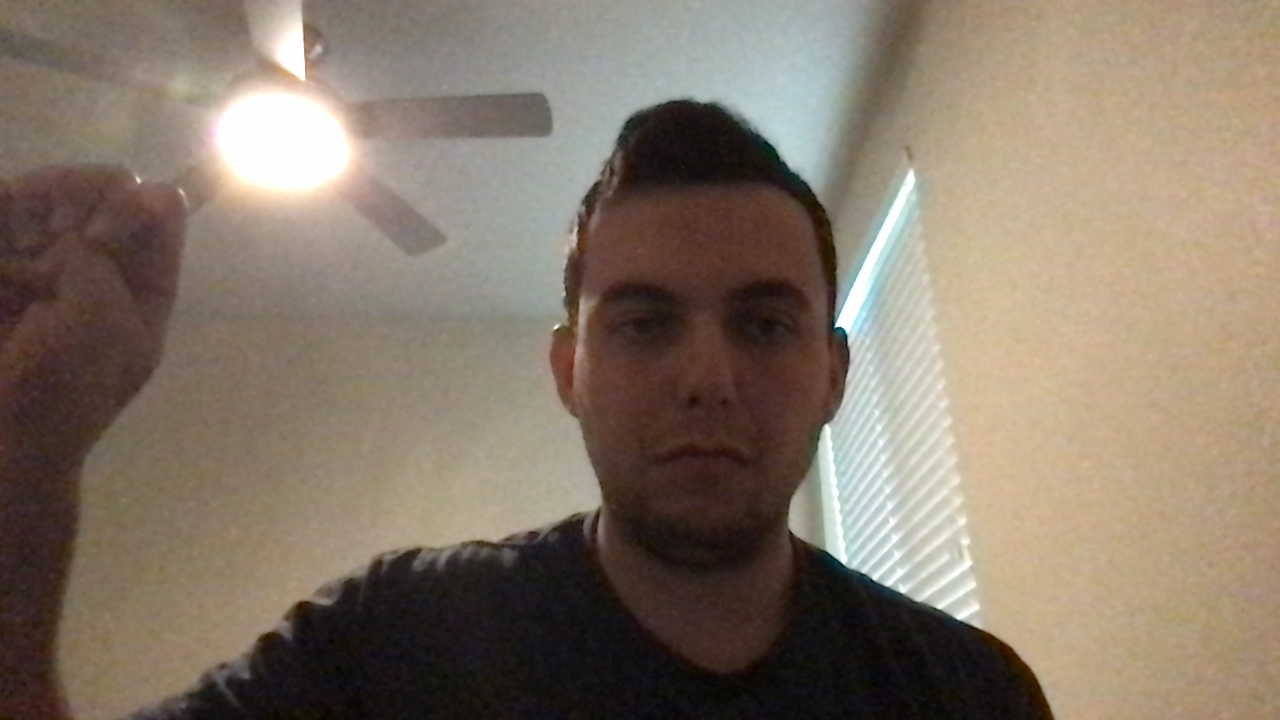e: (1, 144, 182, 433)
